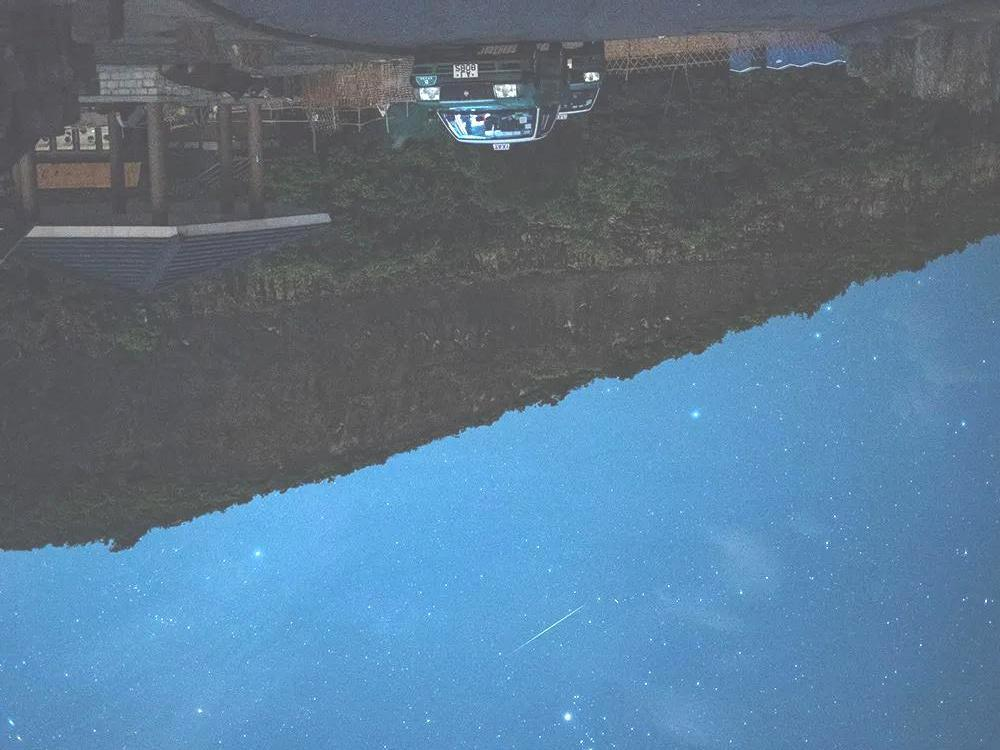meteorite: (508, 600, 593, 669), (718, 52, 862, 77)
